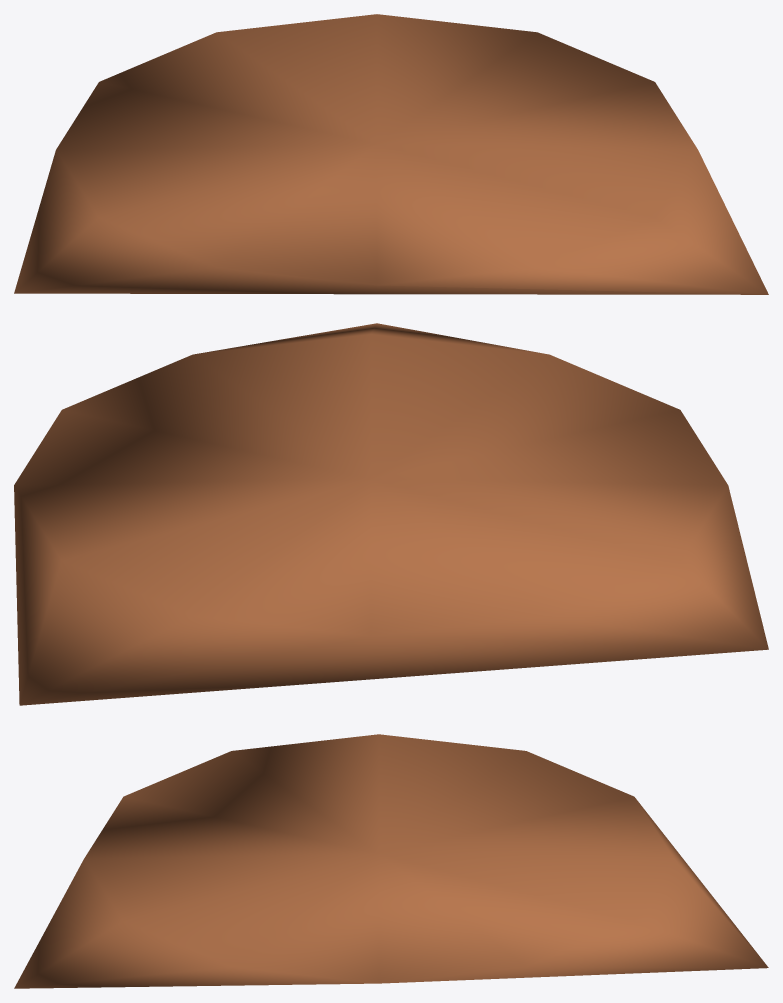
The model's file is ruins-pc-hub-low.glb.
3 renders of one model, top to bottom at view 1: azimuth 30°, elevation 25°; view 2: azimuth 150°, elevation 25°; view 3: azimuth 270°, elevation 25°, orthographic. The views are drawn at different scales.
Visible parts, largest first — view 1: 0_ruins_pc_hub; view 2: 0_ruins_pc_hub; view 3: 0_ruins_pc_hub.
Boxes of the visible parts, x1=… form: 0_ruins_pc_hub: x1=14, y1=14, x2=768, y2=294; 0_ruins_pc_hub: x1=14, y1=323, x2=768, y2=705; 0_ruins_pc_hub: x1=14, y1=734, x2=768, y2=988.
Bounding box in the file's own units: 0.124 × 0.0208 × 0.1382.
